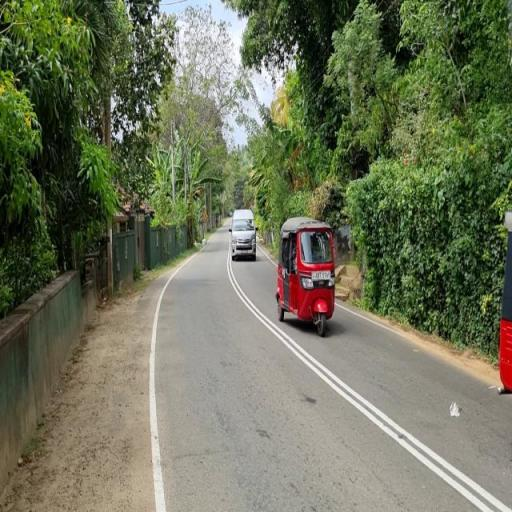double_white_line: (229, 245, 512, 511)
